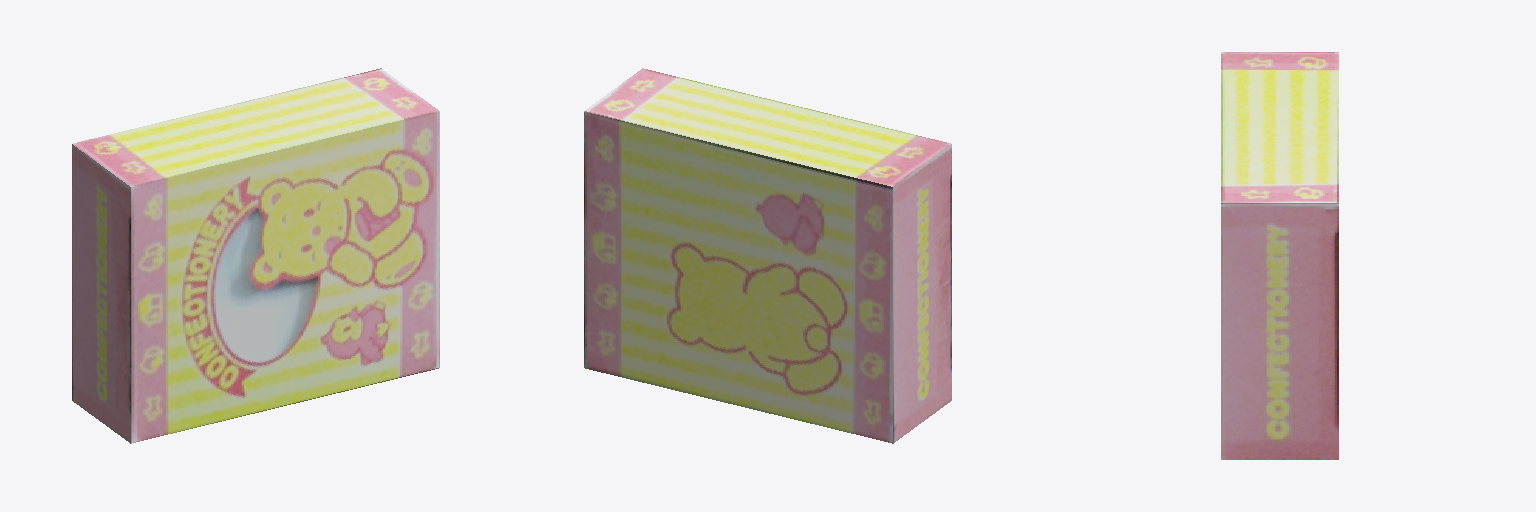
The picture shows the model from 3 angles: view 1: azimuth 30°, elevation 25°; view 2: azimuth 150°, elevation 25°; view 3: azimuth 270°, elevation 25°; orthographic projection.
Parts seen in each view (by area): view 1: Cube; view 2: Cube; view 3: Cube.
Boxes of the visible parts, <box> form: Cube: <box>72,68,439,443</box>; Cube: <box>584,68,951,443</box>; Cube: <box>1221,52,1338,459</box>.
Size of the model in its own units: 1.06 by 0.84 by 0.35.
Materials: 1 (1 with a texture image).